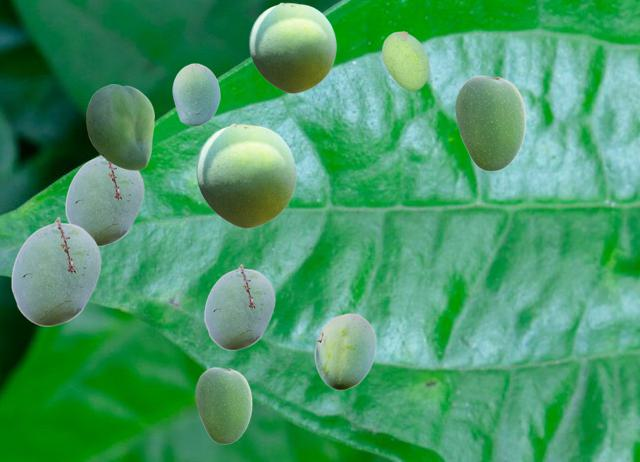green_mango: (196, 123, 295, 227), (11, 217, 100, 325), (249, 2, 335, 92), (65, 155, 143, 245), (455, 75, 525, 170), (204, 264, 274, 349), (86, 84, 153, 169), (314, 313, 375, 389), (195, 367, 251, 443), (172, 63, 219, 125), (382, 31, 428, 89)
